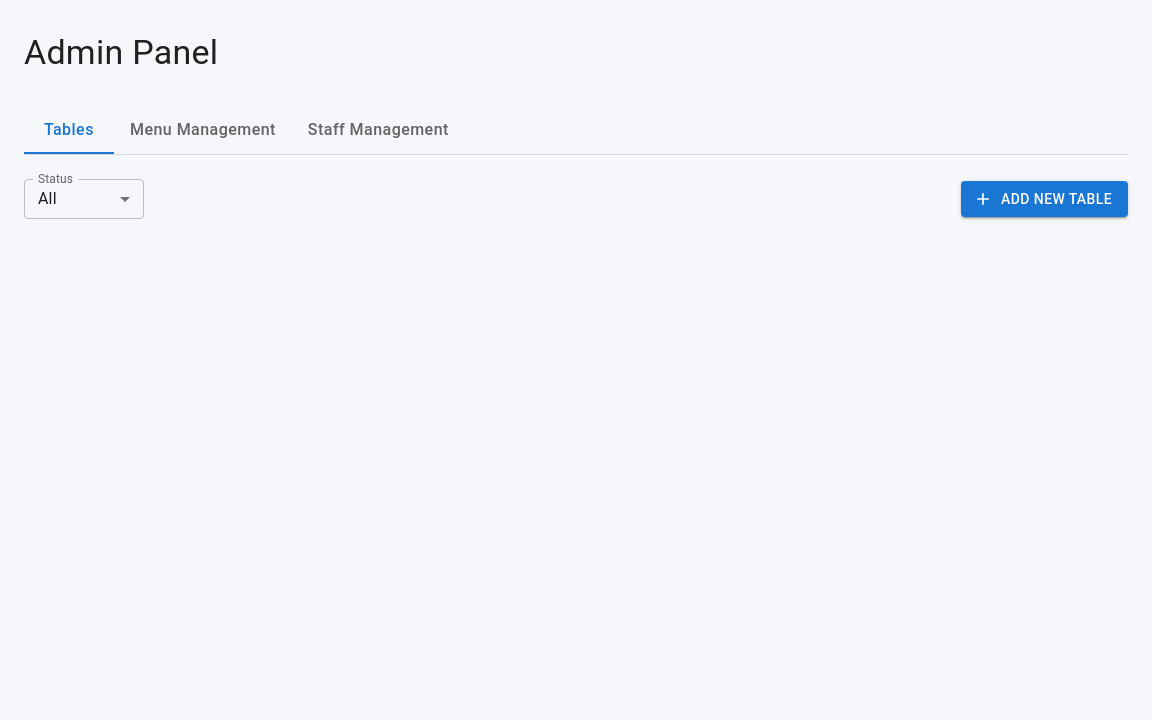
Test: AdminPage › opens and closes the add table dialog
Click the button "Add New Table": point(1045, 199) [961,181,1128,217]
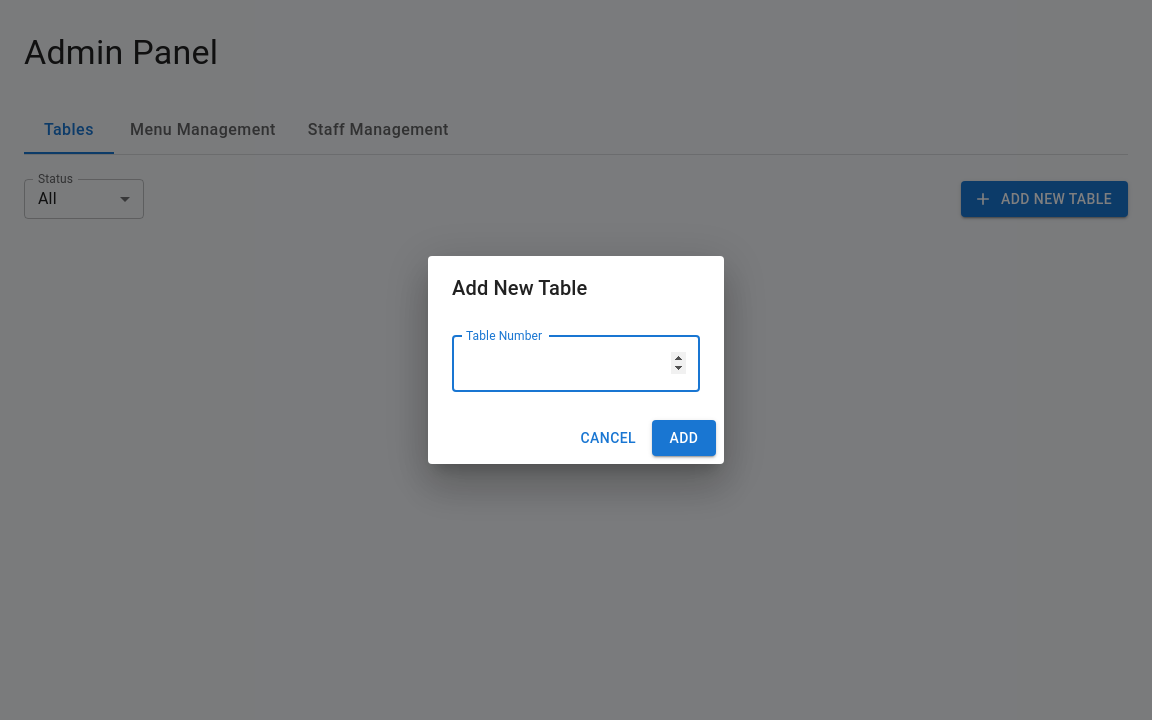
Now the heading "Add New Table" is shown, box [452,276,588,300]
Click the button "Cancel": point(608, 438) [572,420,644,456]
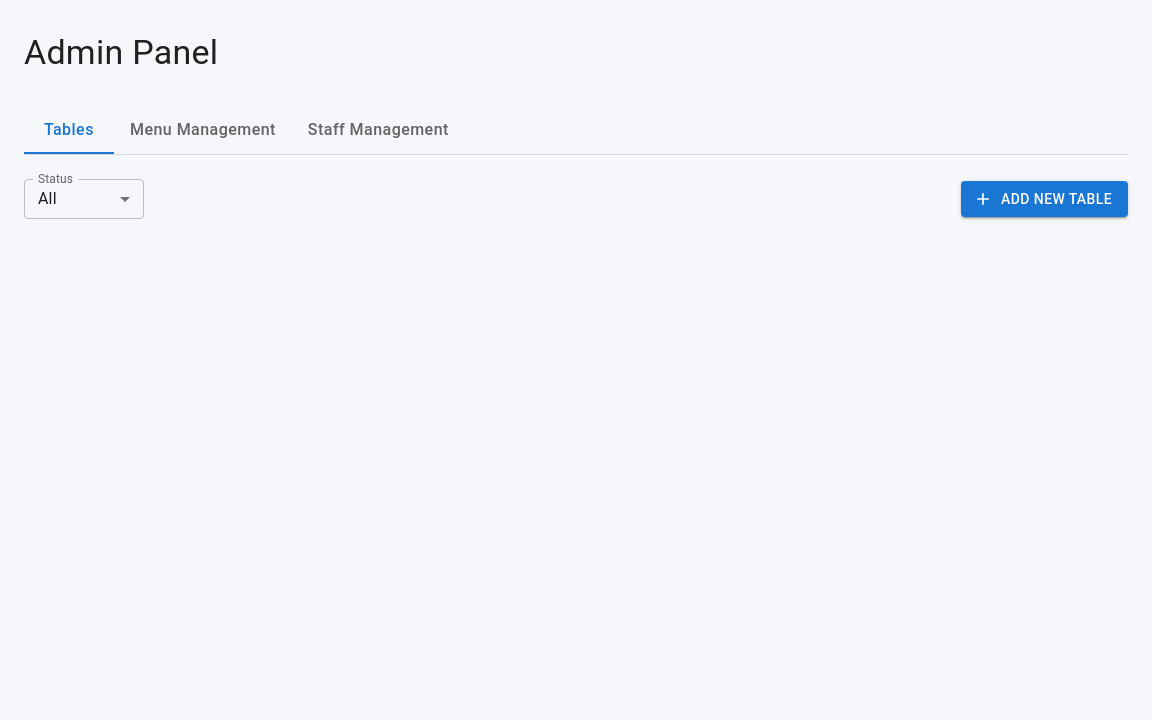
Now the dialog is gone
